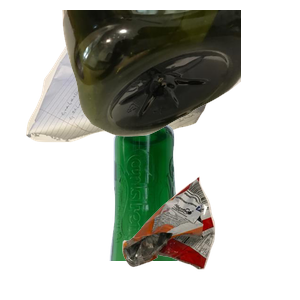glass: (107, 120, 278, 300)
paper: (23, 40, 223, 180)
plastic: (60, 10, 300, 139)
trash: (120, 174, 300, 300)
